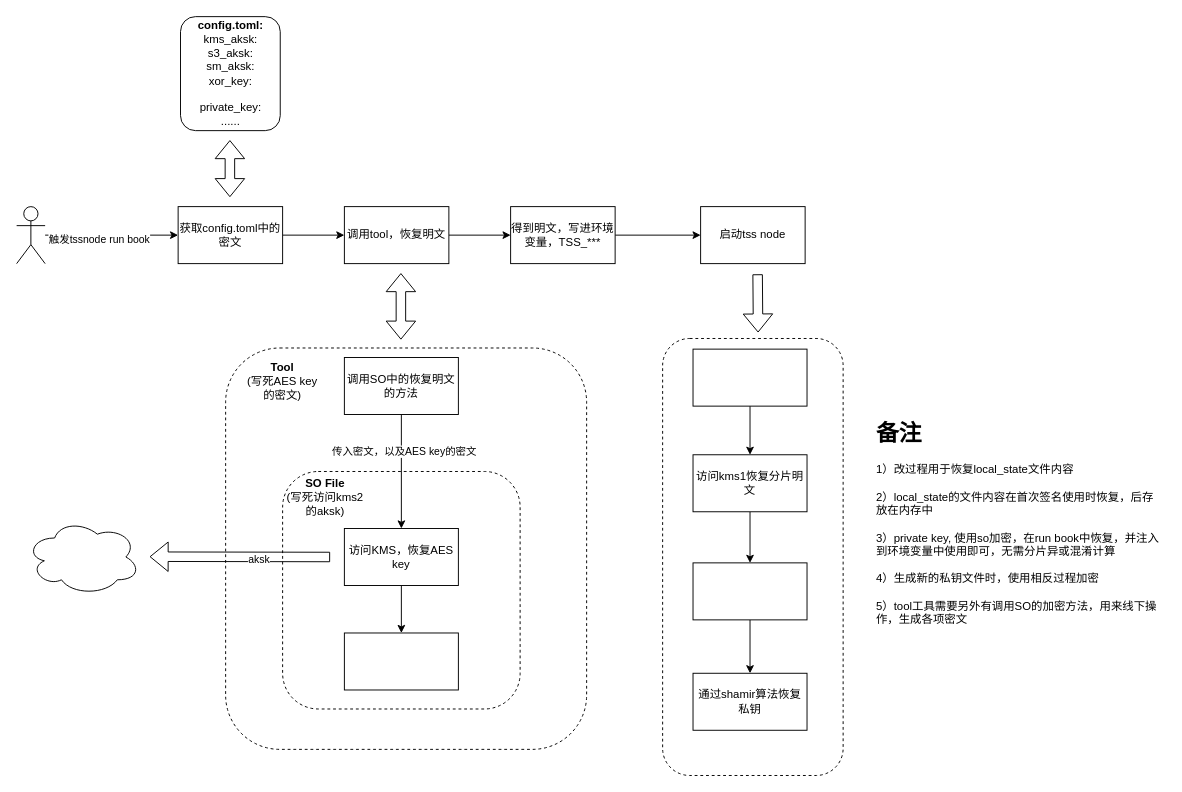
Image size: 1182x792. Some labels were removed from this diagram. Here are the shapes that lost their labels. From the top down, the centre of each, then its label:
point (30, 235): Actor
point (749, 377): 通过明文aksk访问s3, sm获取私钥分片密文
point (82, 556): KMS2
point (749, 591): 通过异或恢复实际分片
point (400, 661): AES decrypt data, 恢复明文
